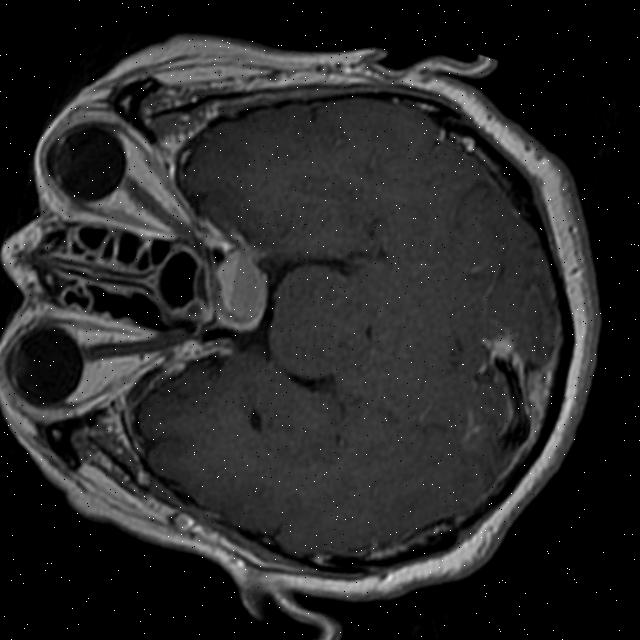Pituitary: (200, 251, 278, 337)
